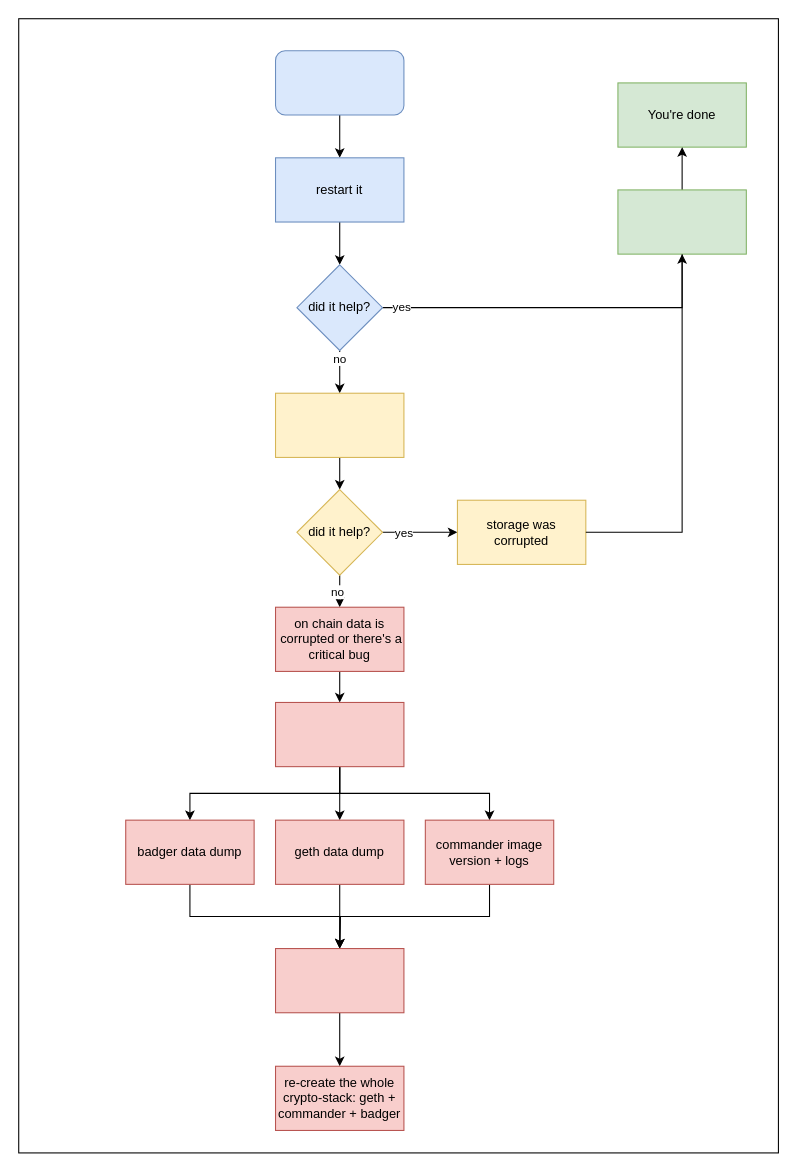
Image size: 797x1172. Some labels were removed from this diagram. Here are the shapes that lost their labels. From the top down, the centre of each, then its label:
At point (339, 82): "hubble crashed".
At point (681, 221): "no data loss".
At point (339, 424): "wipe badger data and restart".
At point (339, 734): "gather debugging data".
At point (339, 980): "create an issue with the data dumps".
